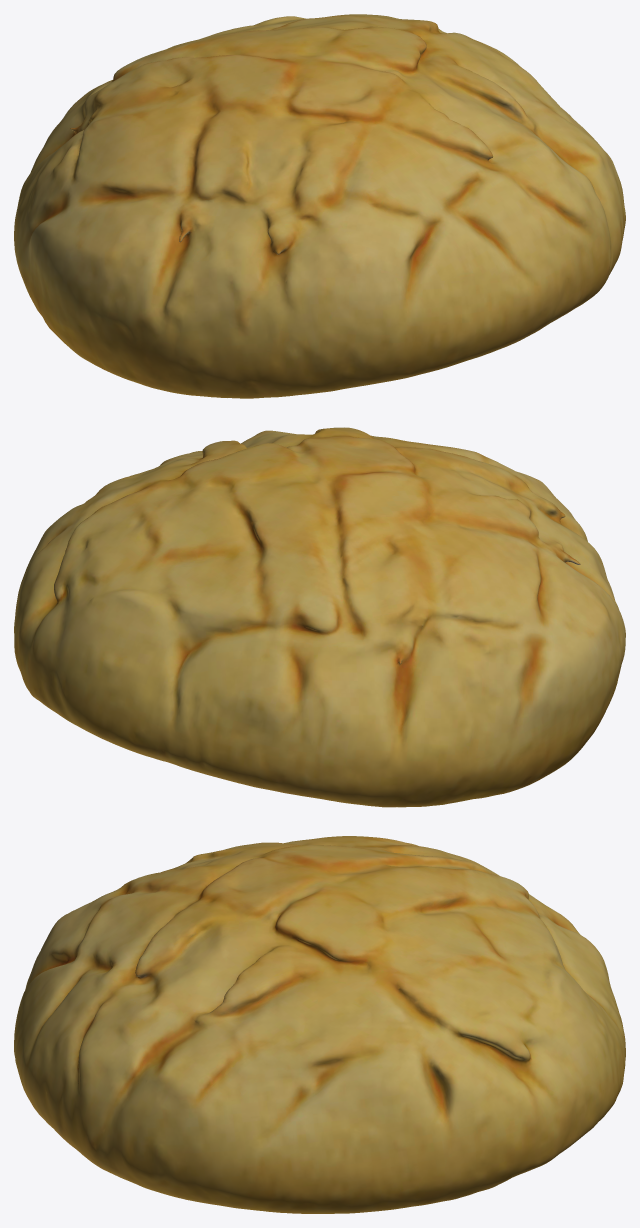
File: 3c981e40a1bc_Flat_melon_bread_wi.fbx
3 views of the same model, one above another, from view 1: azimuth 30°, elevation 25°; view 2: azimuth 150°, elevation 25°; view 3: azimuth 270°, elevation 25° (orthographic). The views are drawn at different scales.
Visible parts, largest first — view 1: high_poly; view 2: high_poly; view 3: high_poly.
Boxes of the visible parts, x1,y1,x2,y2 form: high_poly: (14,14,625,398); high_poly: (14,427,625,807); high_poly: (14,836,625,1213).
Bounding box in the file's own units: 100 × 43.97 × 97.01.
